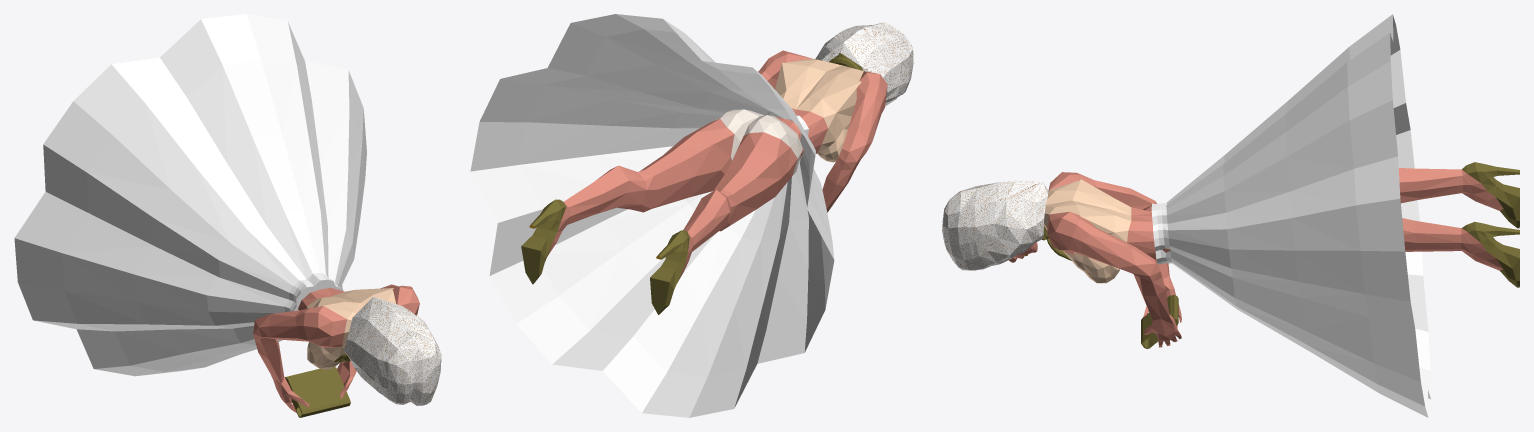
3 renders of one model, left to right at view 1: azimuth 30°, elevation 25°; view 2: azimuth 150°, elevation 25°; view 3: azimuth 270°, elevation 25°, orthographic. The views are drawn at different scales.
Visible parts, largest first — view 1: sketchylady s; view 2: sketchylady s; view 3: sketchylady s.
Boxes of the visible parts, x1,y1,x2,y2 form: sketchylady s: [14, 14, 441, 417]; sketchylady s: [470, 14, 913, 417]; sketchylady s: [942, 14, 1519, 417].
Bounding box in the file's own units: 47.14 × 46.9 × 66.89.
